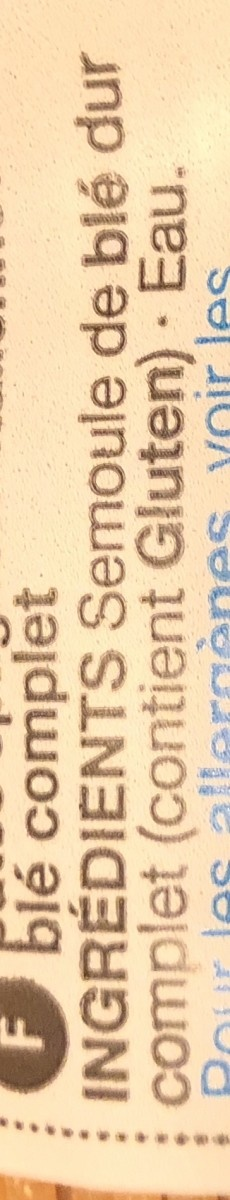ingredients: (68, 28, 199, 1106)
